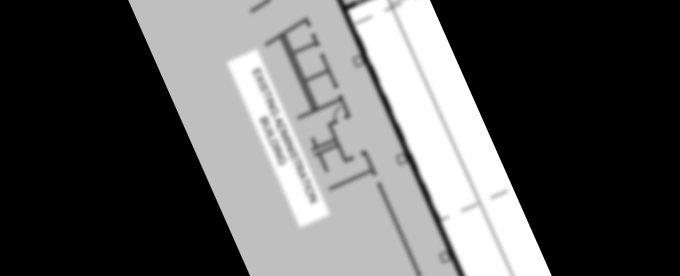double door: (330, 0, 503, 276)
